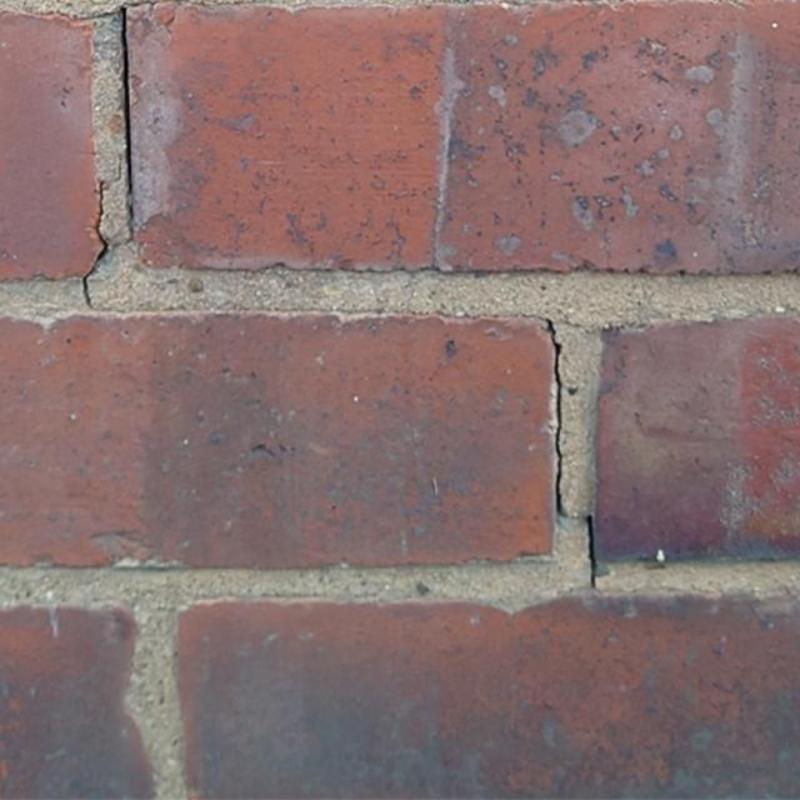crack: (547, 318, 581, 520), (118, 7, 134, 246), (82, 179, 111, 309), (49, 1, 156, 20), (586, 516, 597, 588)
